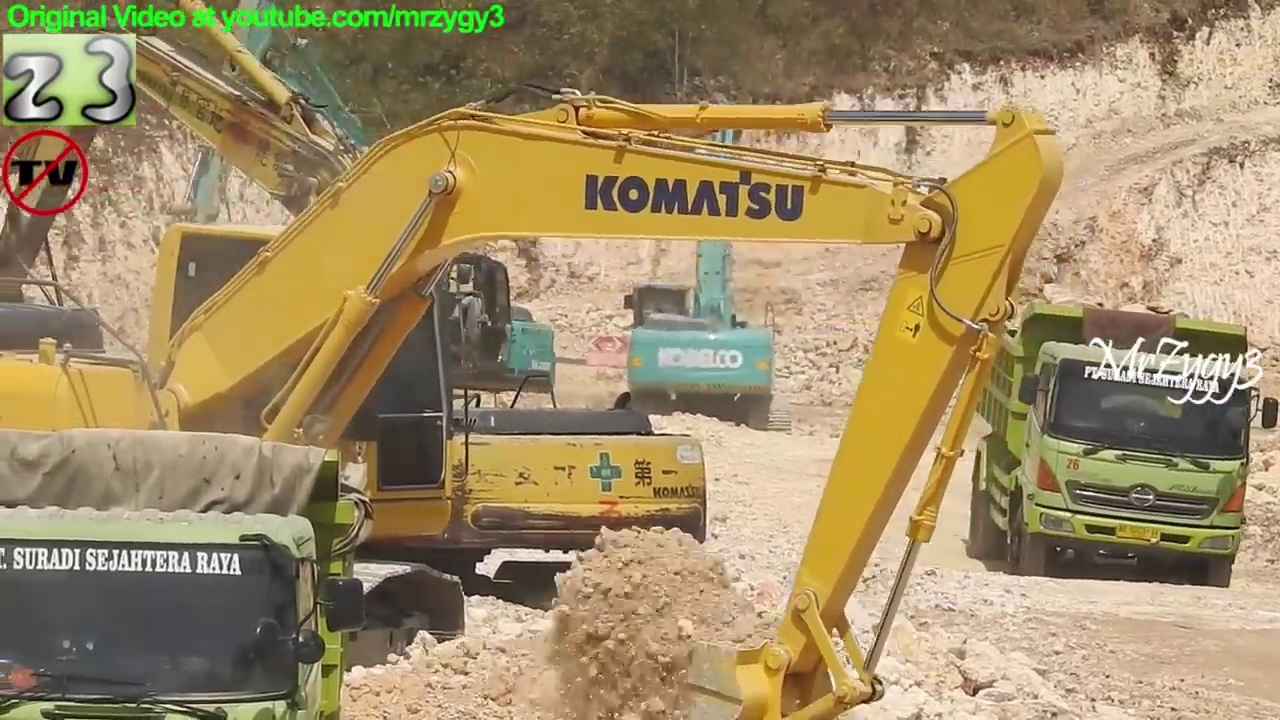excavator: (2, 78, 1070, 720), (1, 1, 719, 631), (132, 1, 579, 462), (593, 81, 805, 440)
truck: (1, 424, 375, 720), (962, 293, 1279, 590)
